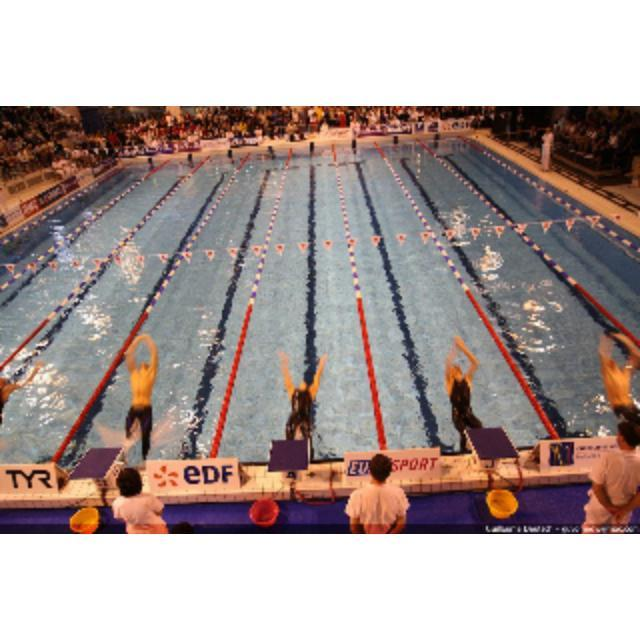human: (440, 332, 488, 442), (275, 349, 327, 447), (122, 333, 160, 461), (597, 331, 639, 427)
